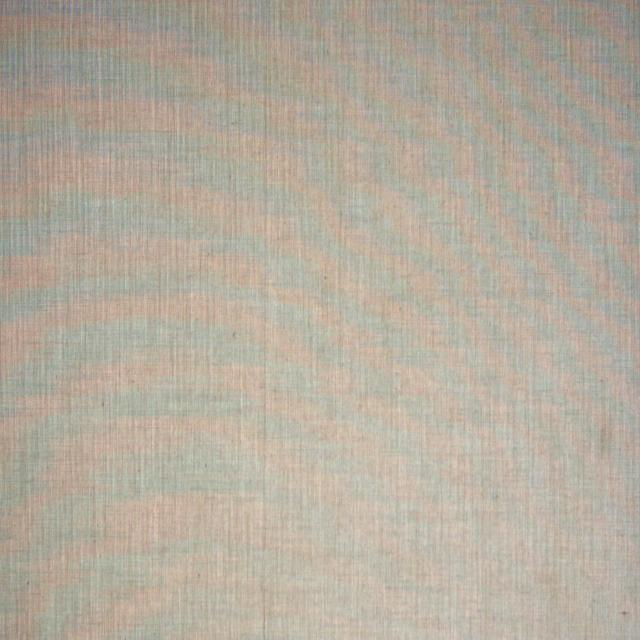dirty: (599, 426, 612, 458)
